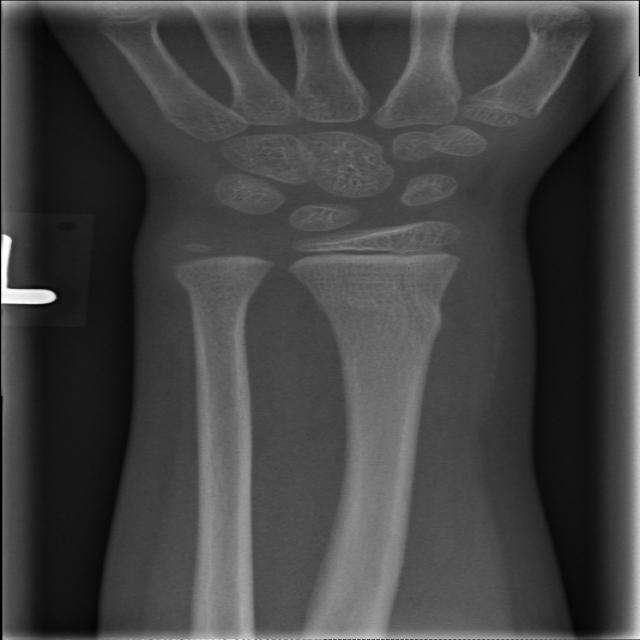radius fracture: (301, 280, 527, 356)
